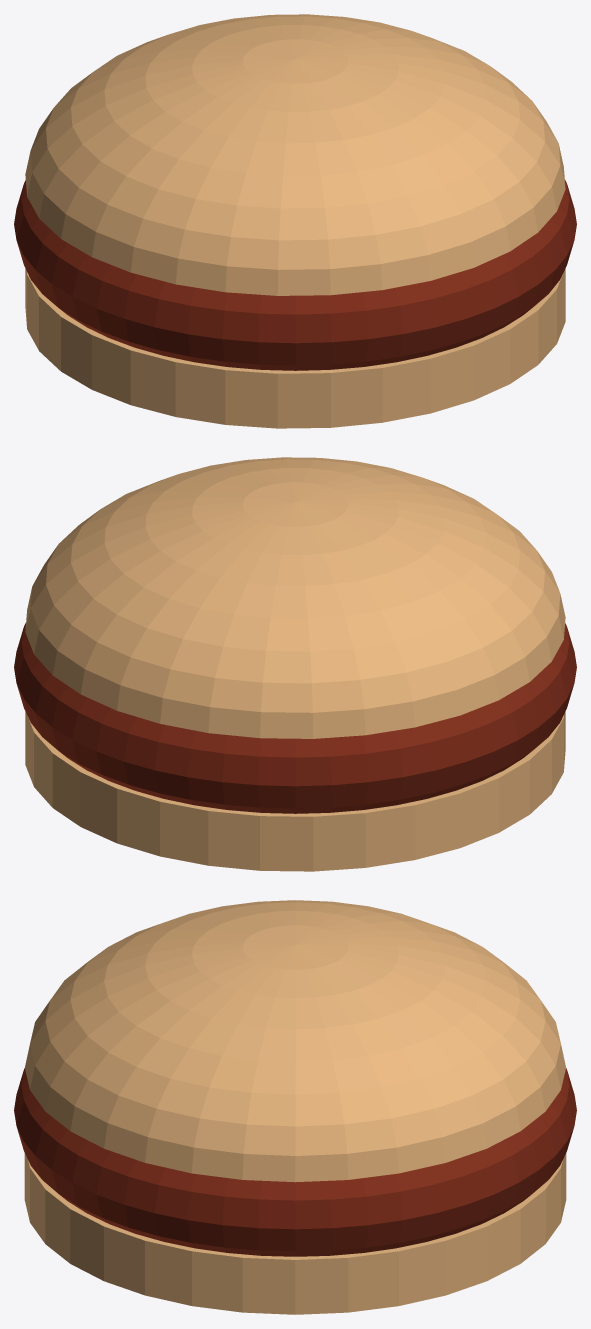
The model's file is Burger.fbx.
3 views of the same model, one above another, from view 1: azimuth 30°, elevation 25°; view 2: azimuth 150°, elevation 25°; view 3: azimuth 270°, elevation 25° (orthographic).
Visible parts, largest first — view 1: Sphere, Torus, Cylinder; view 2: Sphere, Torus, Cylinder; view 3: Sphere, Torus, Cylinder.
Boxes of the visible parts, bbox=[...] form: Sphere: bbox=[25, 14, 565, 295]; Torus: bbox=[14, 180, 576, 370]; Cylinder: bbox=[25, 268, 565, 428]; Sphere: bbox=[25, 457, 565, 738]; Torus: bbox=[14, 623, 576, 813]; Cylinder: bbox=[25, 711, 565, 871]; Sphere: bbox=[25, 900, 565, 1182]; Torus: bbox=[14, 1068, 576, 1256]; Cylinder: bbox=[24, 1153, 566, 1314].
Bounding box in the file's own units: 208 × 104 × 208.
